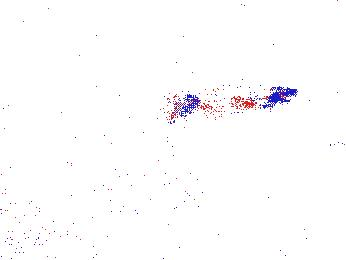X-ray fish: (116, 164, 216, 219)
red belly glassfish: (135, 126, 171, 145), (327, 137, 346, 154)
redtail glassfish: (167, 82, 294, 122)
